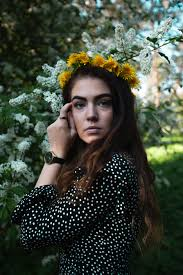bare: (71, 111, 113, 145)
